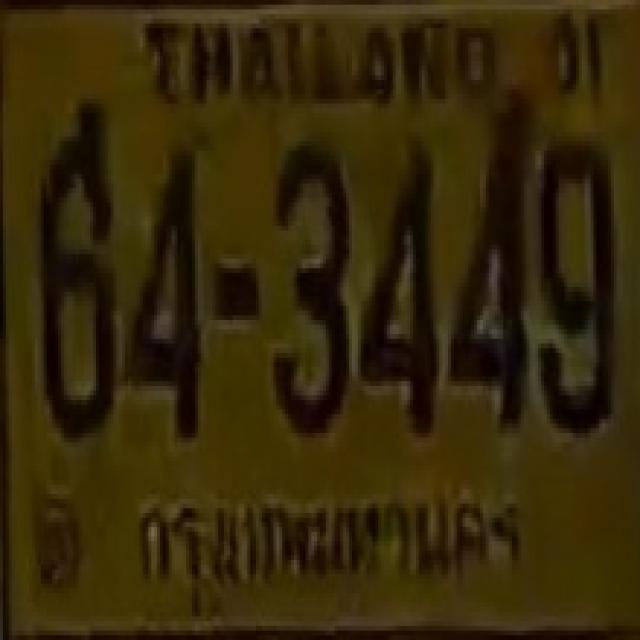3: (272, 138, 348, 430)
4: (448, 92, 527, 426), (358, 138, 436, 430), (128, 144, 198, 436)
6: (38, 99, 113, 438)
9: (538, 134, 614, 431)
BKK: (128, 486, 536, 600)
